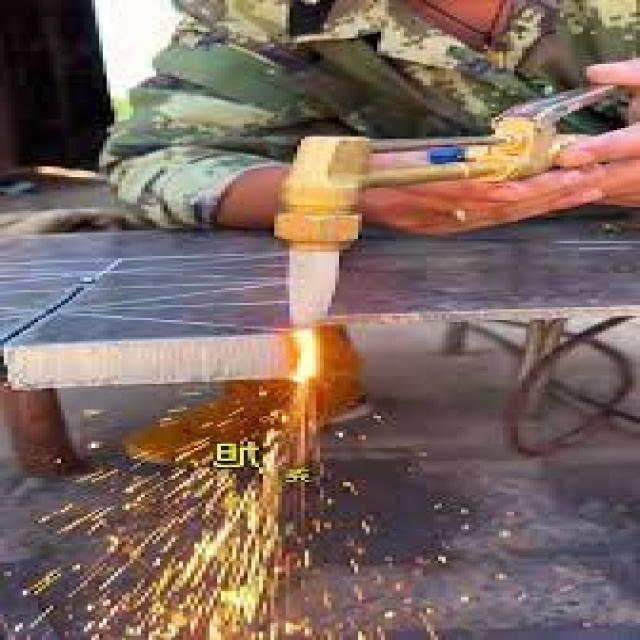fire: (289, 329, 316, 384)
